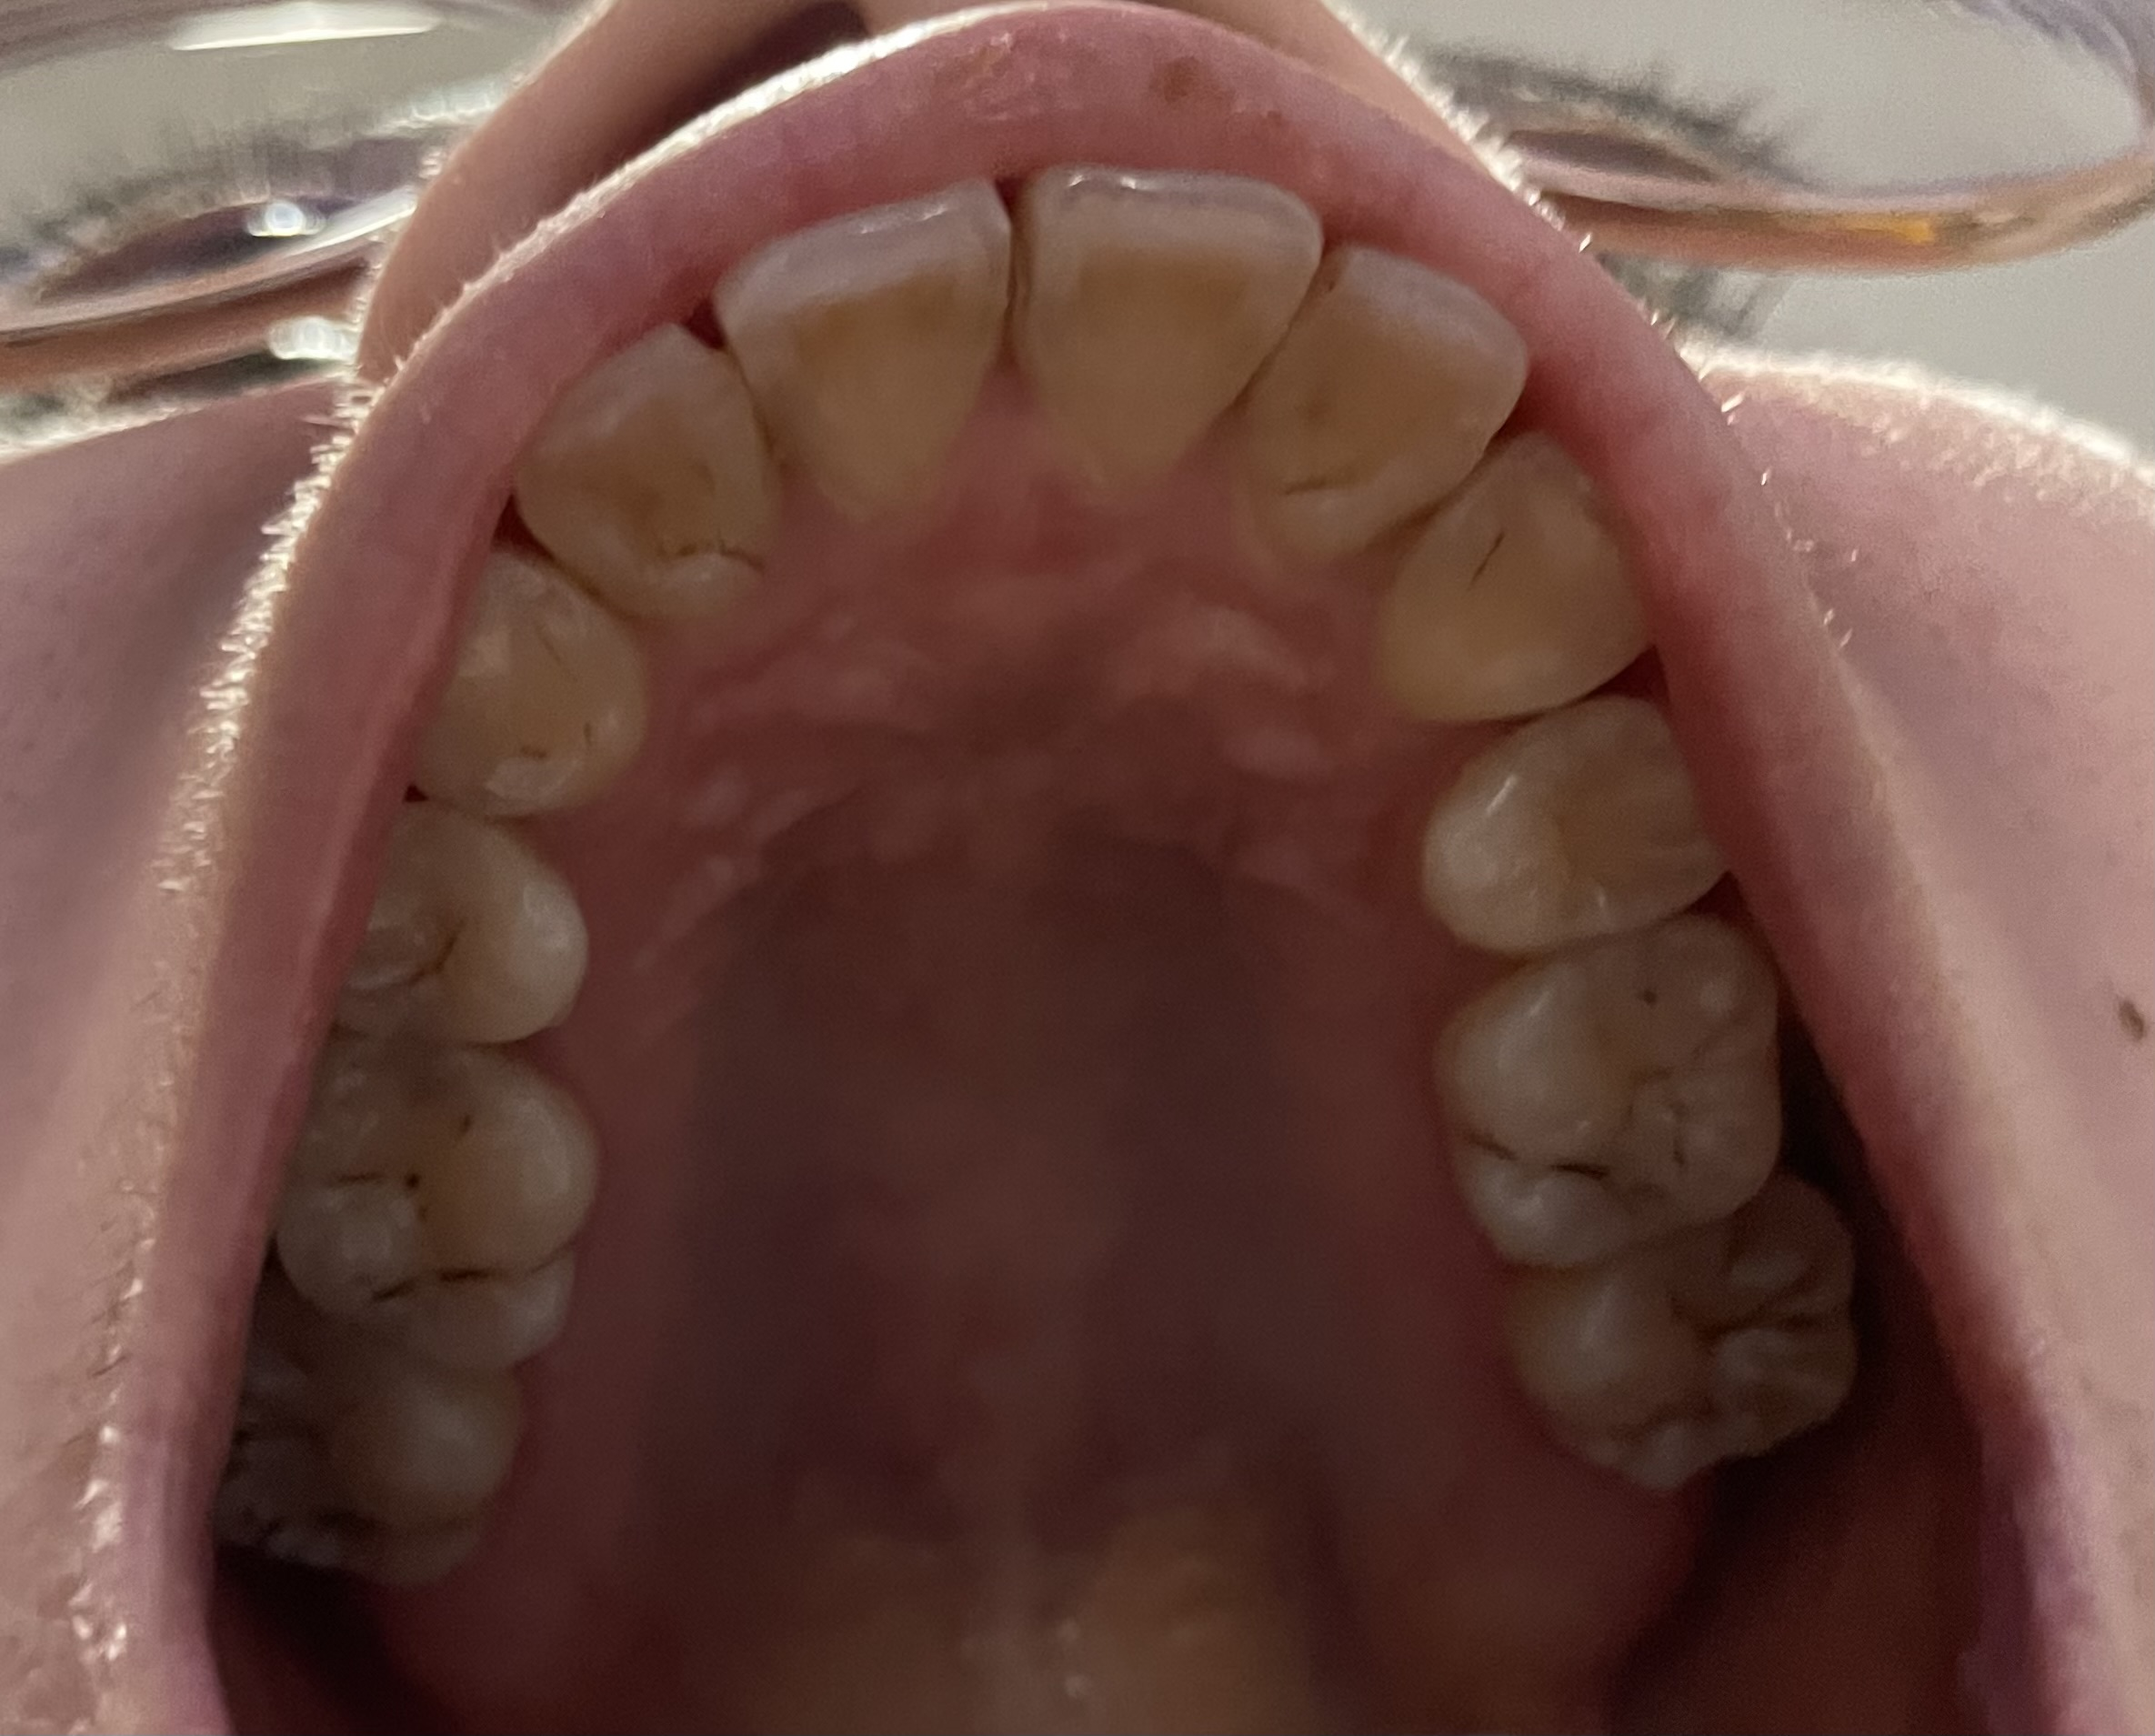teeth: (1424, 932, 1774, 1258), (271, 1029, 581, 1376), (1027, 168, 1326, 517), (719, 174, 1009, 533), (1518, 1187, 1856, 1477), (1250, 255, 1528, 581), (1424, 680, 1734, 957), (1365, 430, 1645, 709), (223, 1323, 514, 1585), (519, 329, 767, 622), (418, 551, 639, 810), (345, 799, 588, 1029)
